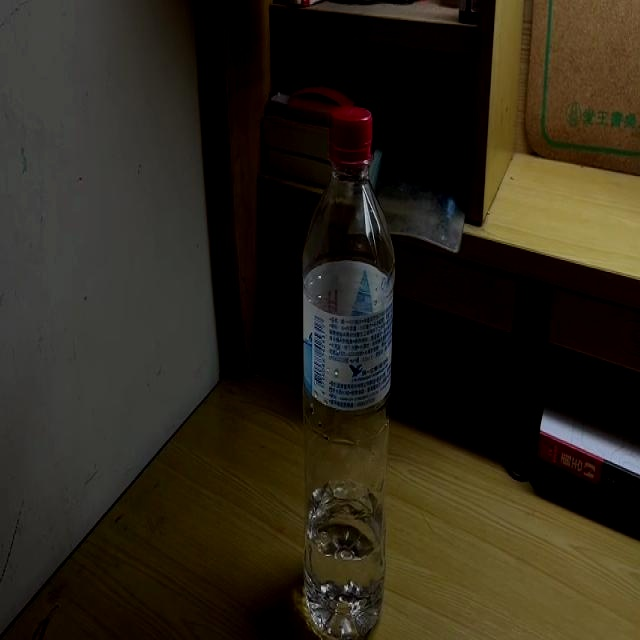Water: (303, 105, 394, 640)
